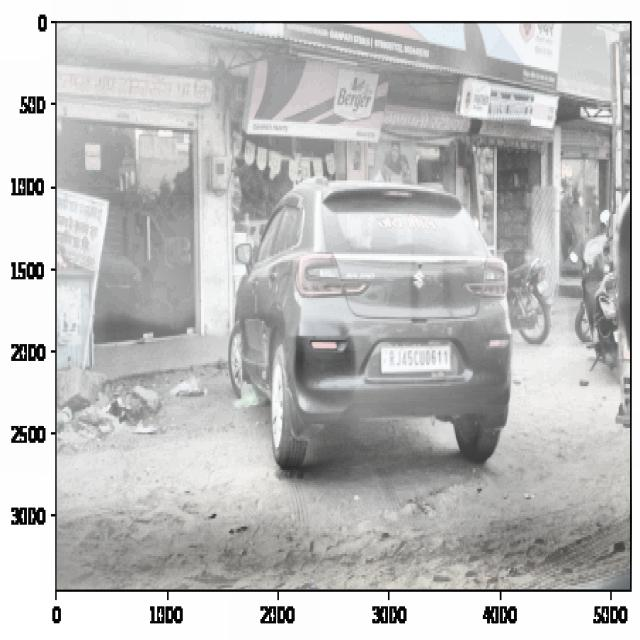license_plate: (385, 340, 454, 377)
